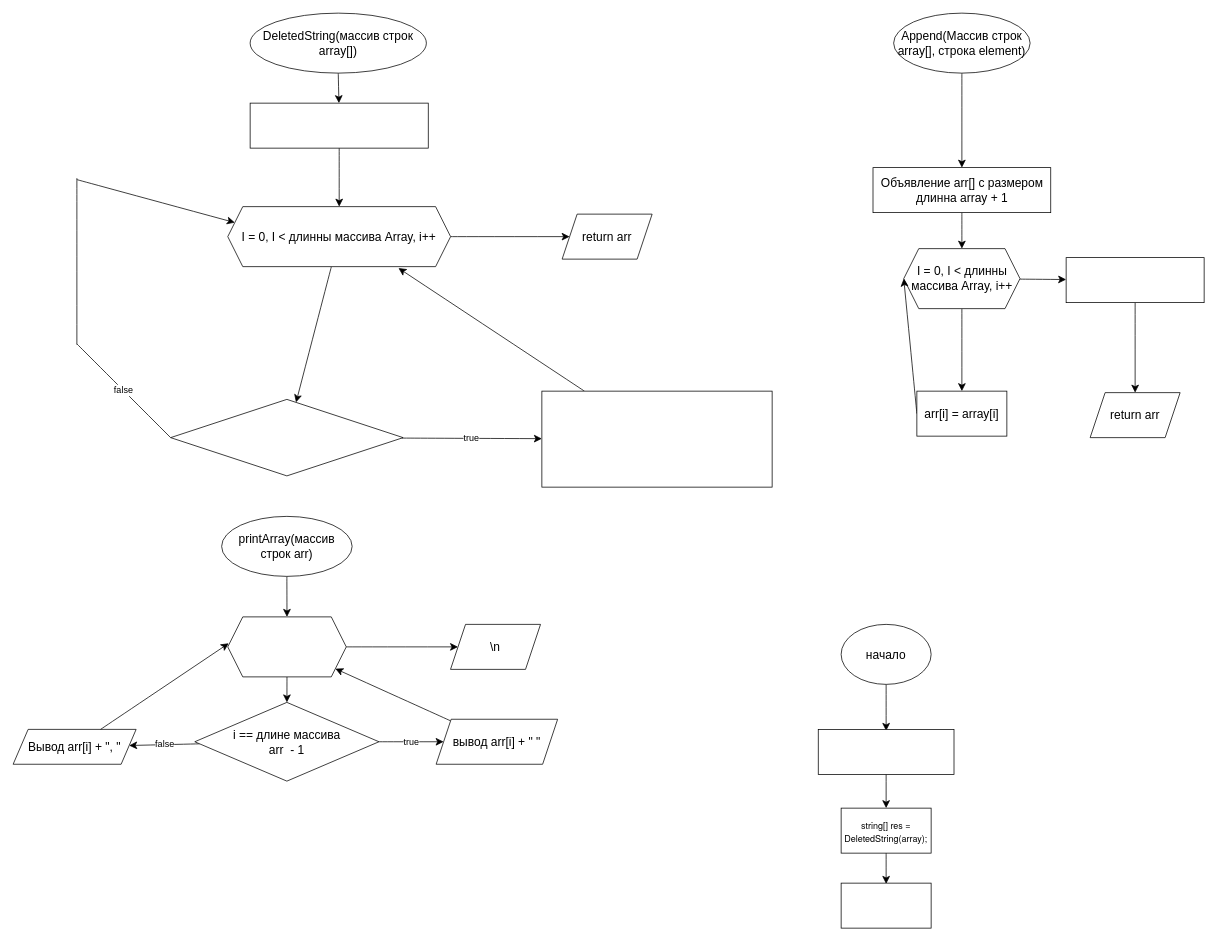
Some shapes in this 1217 by 941 pixel diagram are drawn without their labels. Here are the shapes that lost their labels. From the top down, the centre of each, then its label:
[338,125]: Объявление arr[]
[1134,280]: последний элемент массива arr = element
[286,437]: Длина строки Array[i] <= 3]
[656,438]: arr = Append(arr, array[i])
[286,646]: I = 0, I < длинны массива Arr, i++
[886,751]: string[] array = new string []{"1234", "1567", "-2", "computer science"};
[885,905]: PrintArray(res);
